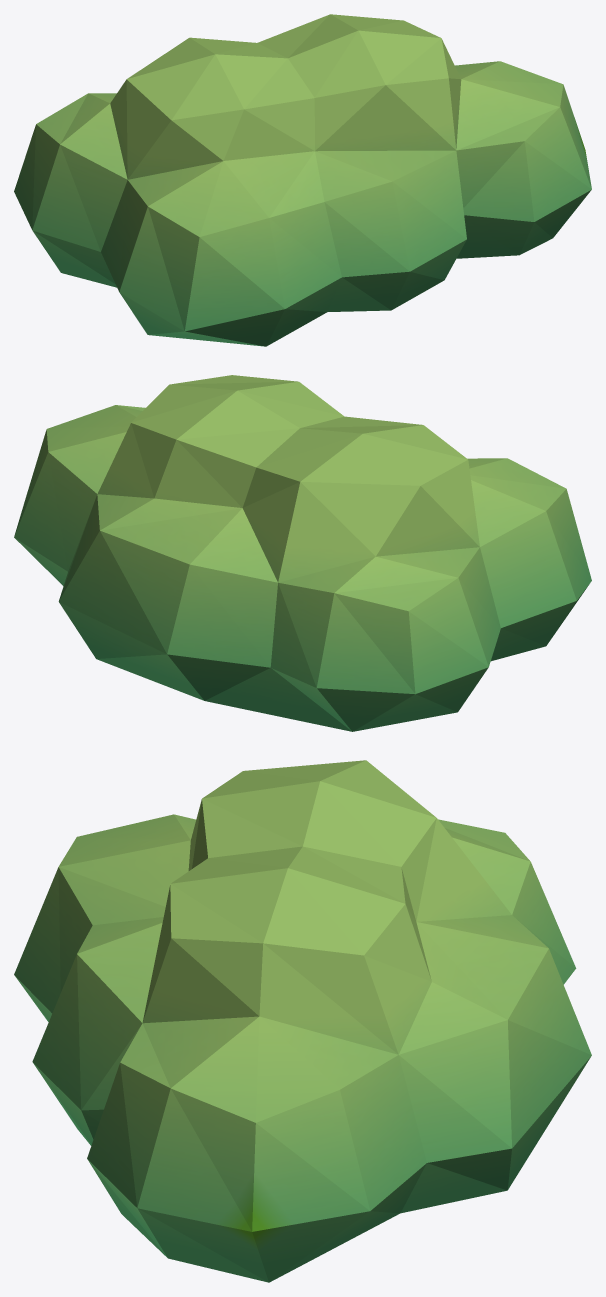
File: Bush_1.fbx
The picture shows the model from 3 angles, top to bottom: view 1: azimuth 30°, elevation 25°; view 2: azimuth 150°, elevation 25°; view 3: azimuth 270°, elevation 25°; orthographic projection. The views are drawn at different scales.
Visible parts, largest first — view 1: bush; view 2: bush; view 3: bush.
Boxes of the visible parts, box(x1,y1,x2,y2) form: bush: box(14, 14, 591, 346); bush: box(14, 375, 591, 731); bush: box(14, 760, 591, 1282).
Size of the model in its own units: 1.68 by 0.9361 by 2.28.
